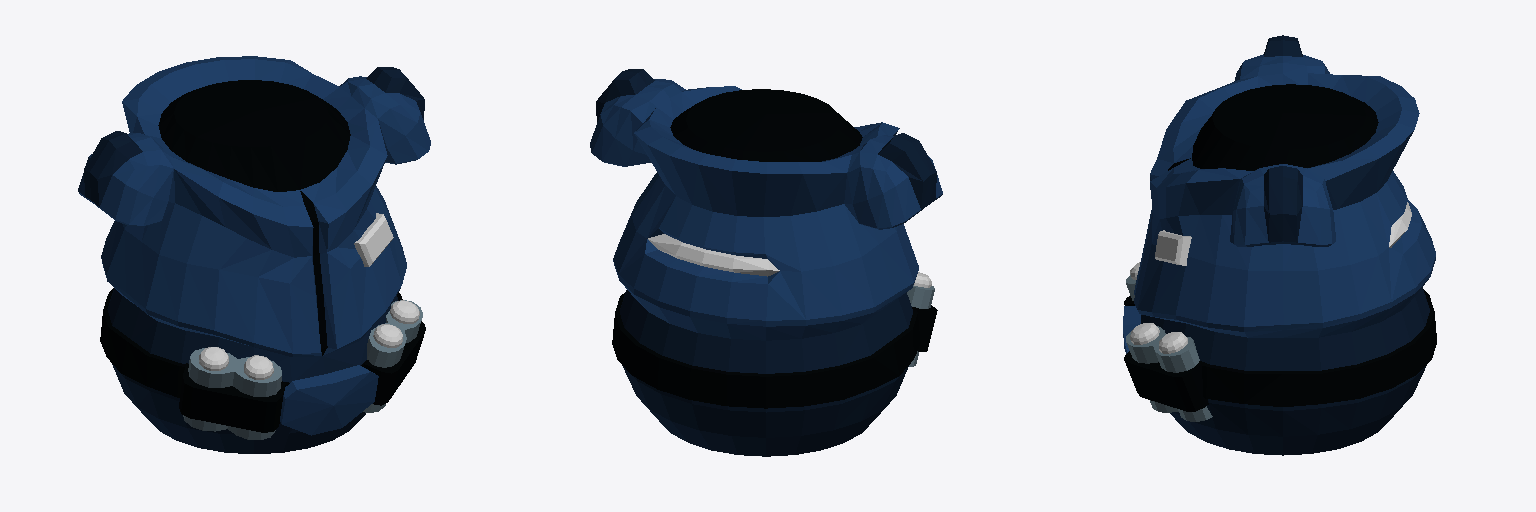
File: character_spaceSoldierBody.obj
3 views of the same model, side by side, from view 1: azimuth 30°, elevation 25°; view 2: azimuth 150°, elevation 25°; view 3: azimuth 270°, elevation 25° (orthographic).
Visible parts, largest first — view 1: character_spaceSoldierBody_Cube.5752; view 2: character_spaceSoldierBody_Cube.5752; view 3: character_spaceSoldierBody_Cube.5752.
Boxes of the visible parts, x1,y1,x2,y2 form: character_spaceSoldierBody_Cube.5752: [78, 56, 430, 453]; character_spaceSoldierBody_Cube.5752: [590, 69, 942, 456]; character_spaceSoldierBody_Cube.5752: [1123, 35, 1436, 455].
Bounding box in the file's own units: 0.8559 × 0.7601 × 0.7081.